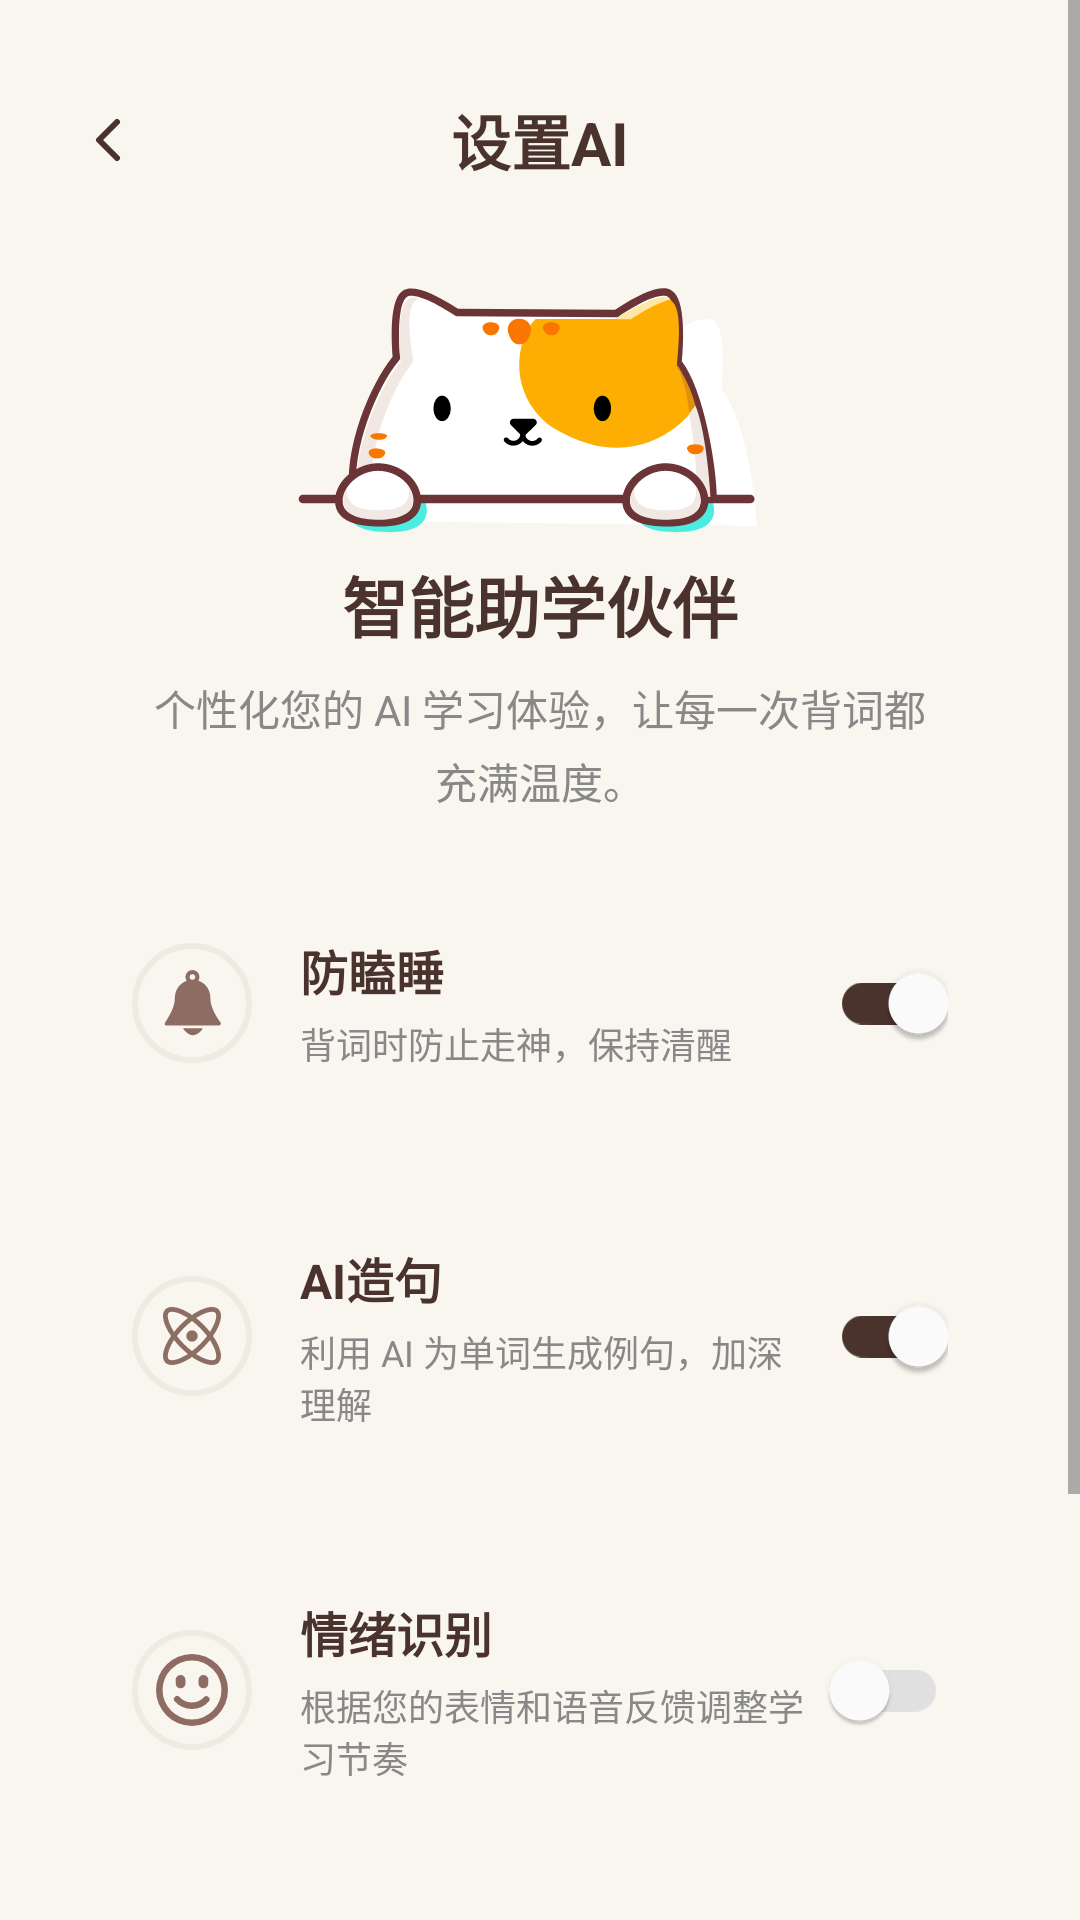

Icon bounding boxes for this 1080x1920 phone screenshot, format {"left": x1, "top": y1, "right": x2, "bottom": y2}:
arrow back: {"left": 96, "top": 119, "right": 120, "bottom": 161}
emotion: {"left": 156, "top": 1654, "right": 228, "bottom": 1726}
popup reminder: {"left": 164, "top": 970, "right": 221, "bottom": 1036}
